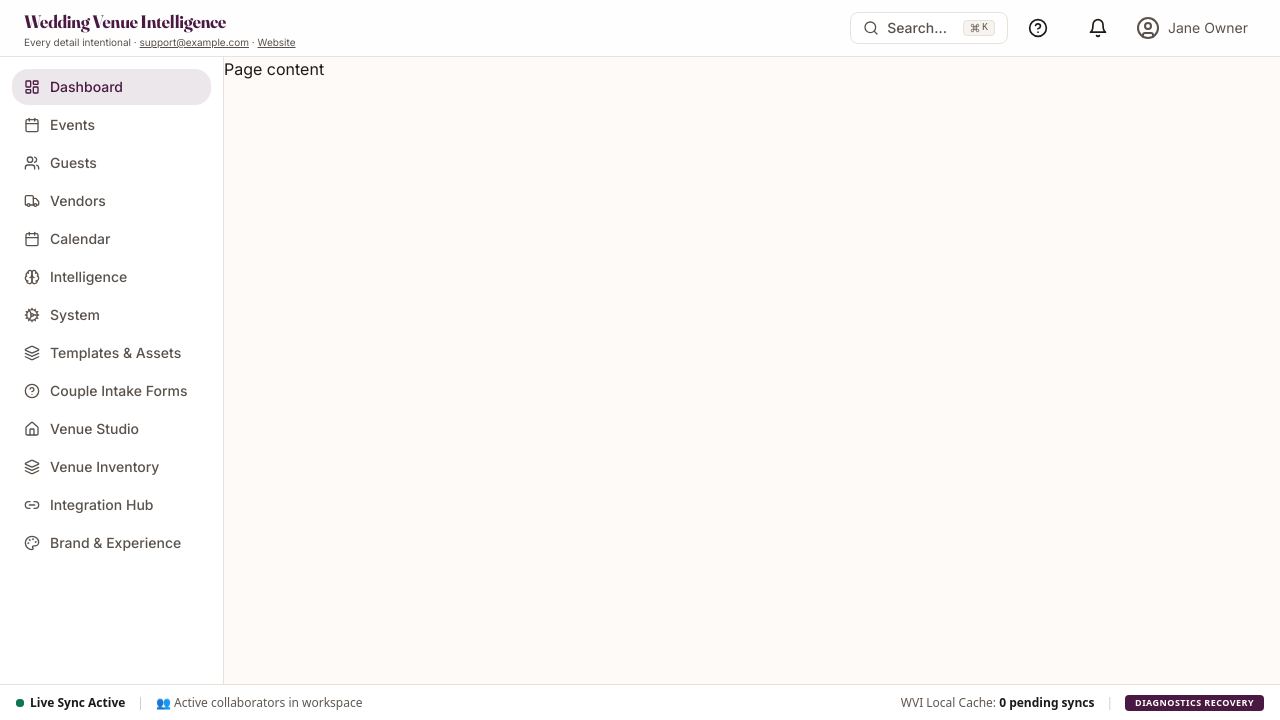
Test case: AppShell › opens persistent Help Center from the top bar
Click the button named "open help center": coordinates (1038, 28) left=1020, top=10, right=1056, bottom=46
(page scrolled)
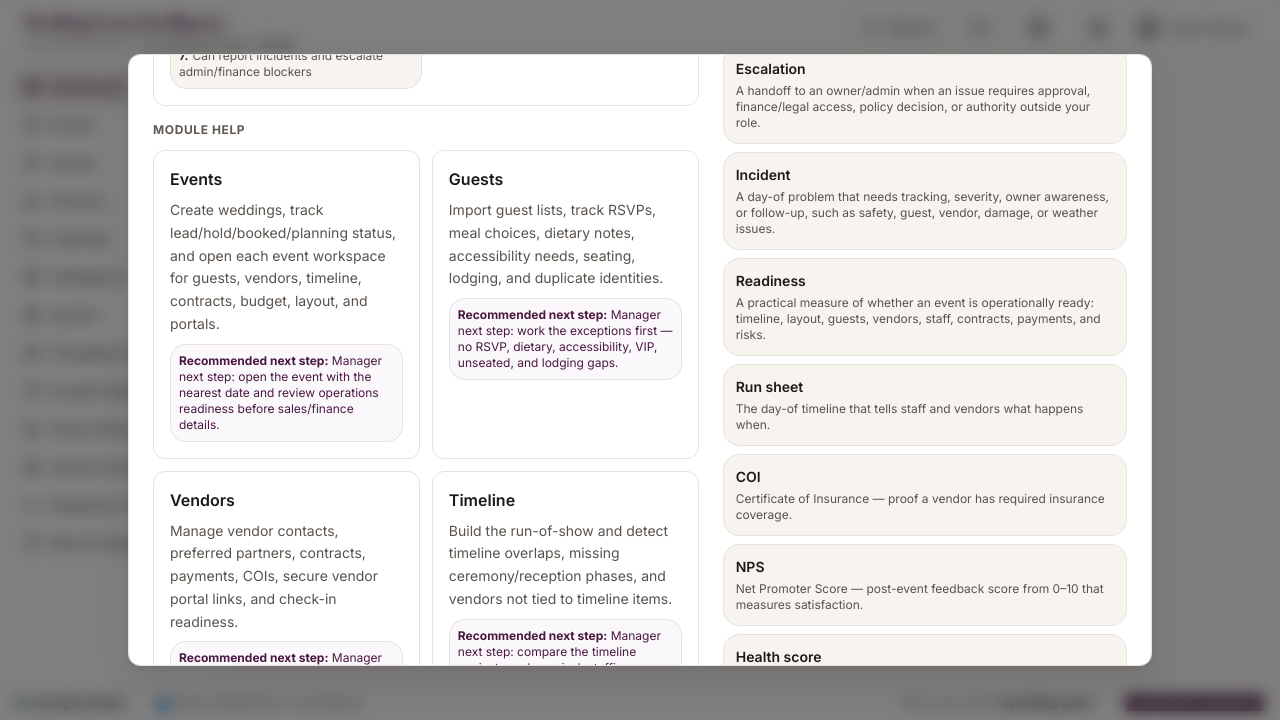
Expected: the dialog is shown
Expected: the 2nd text "Recommended next step:" is shown, left=179, top=352, right=328, bottom=368
